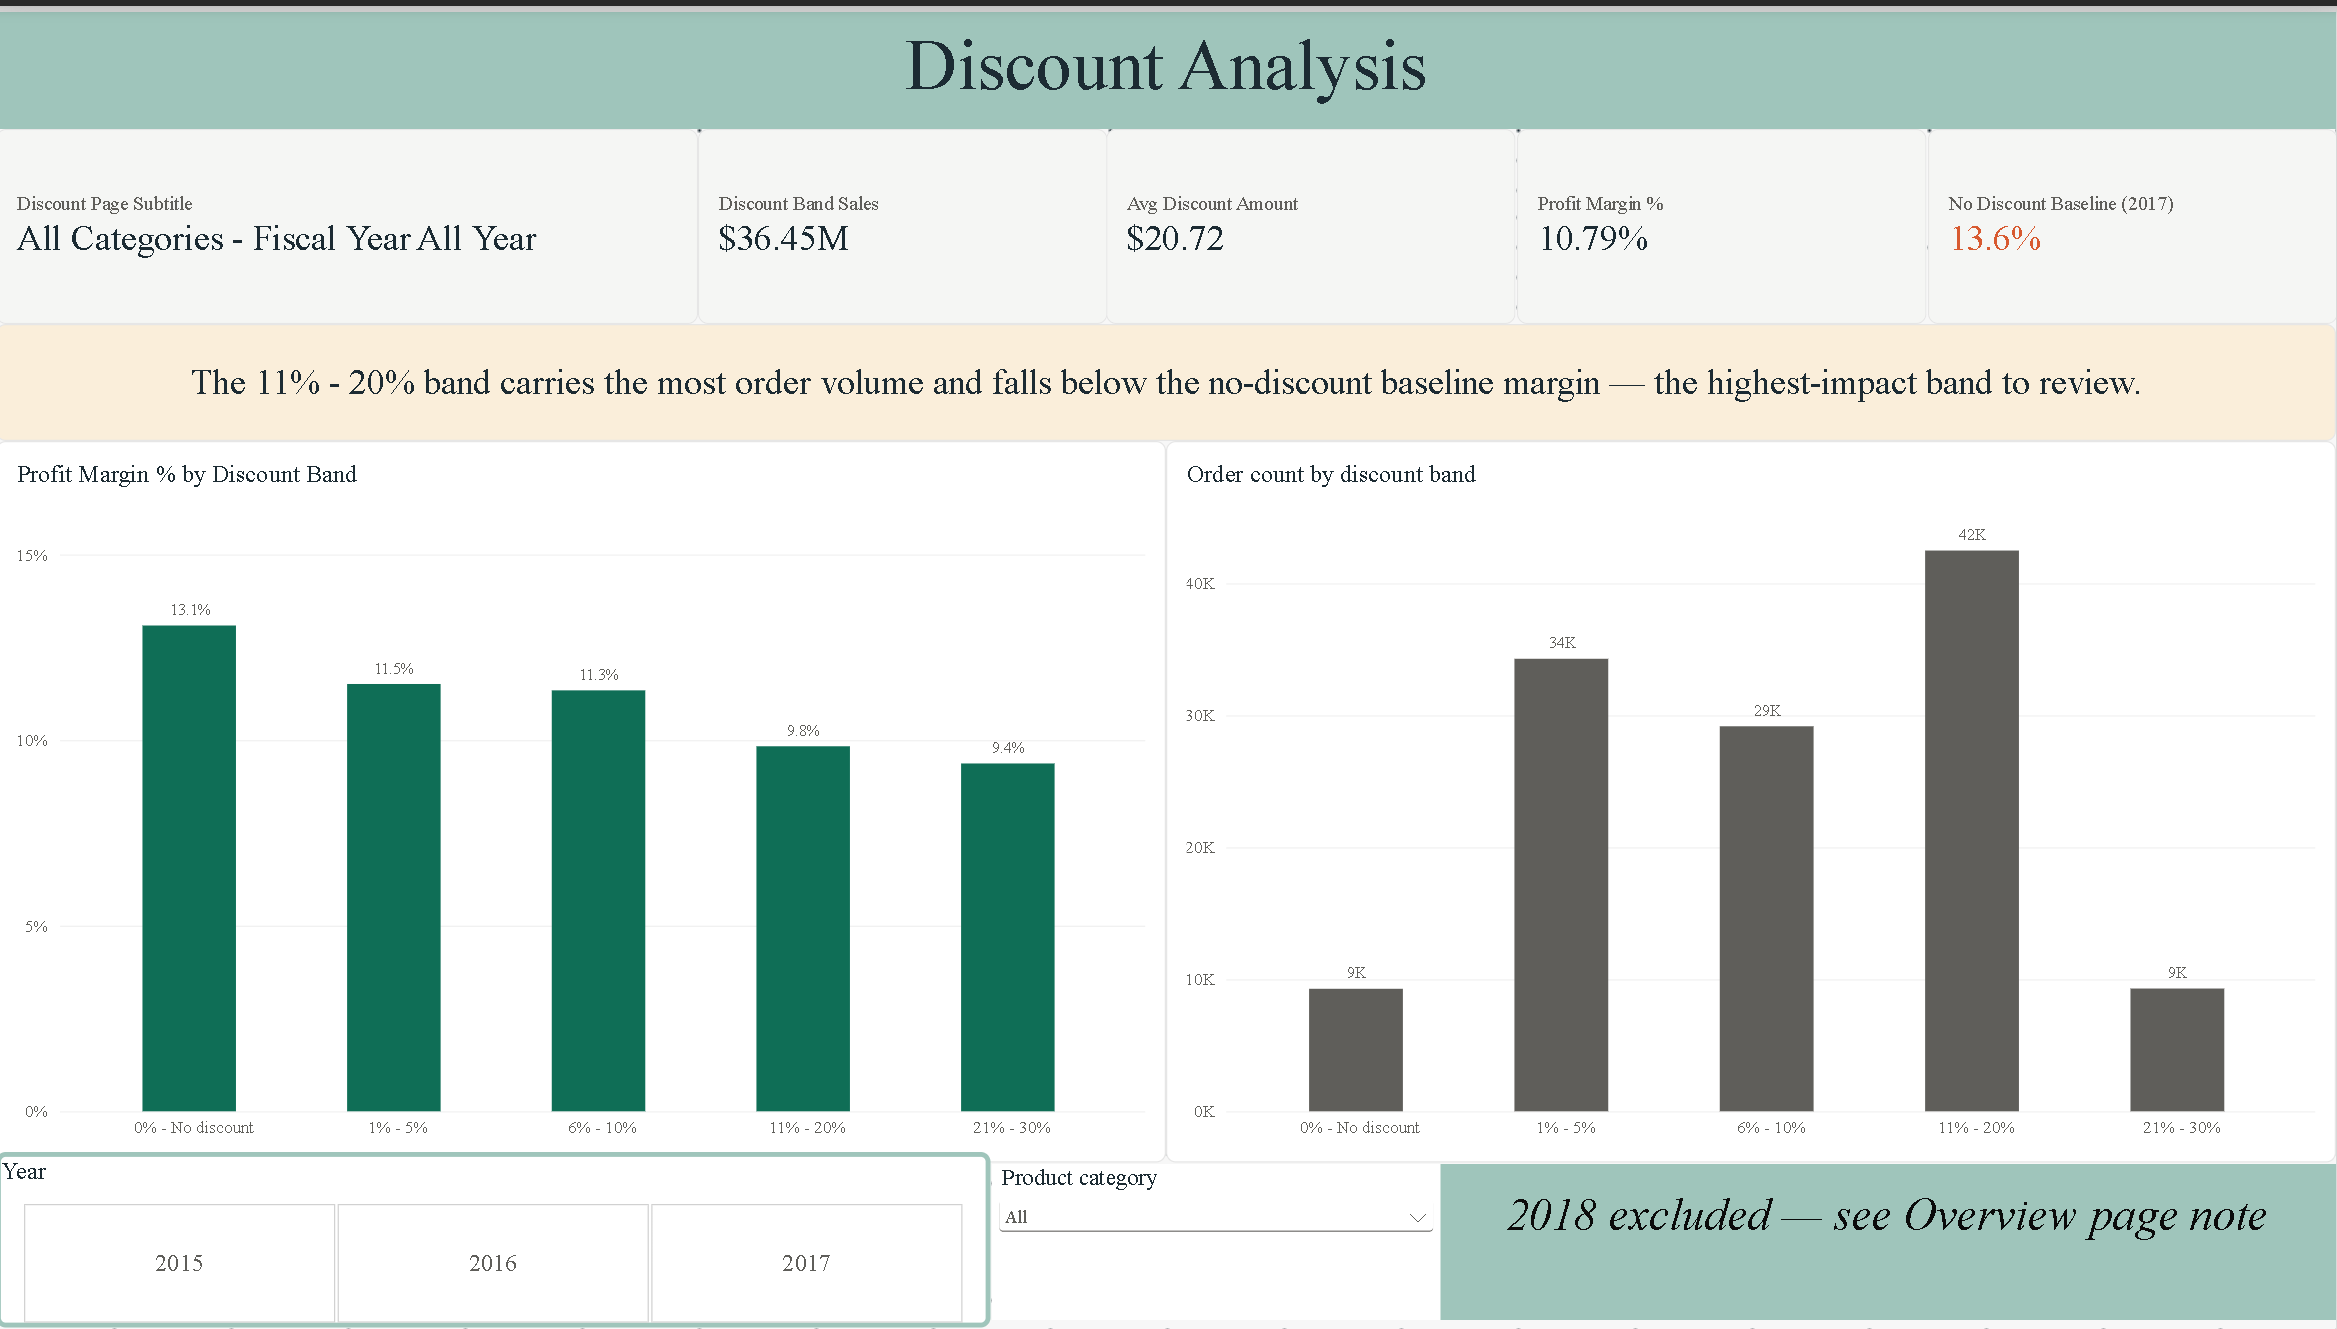

What the dashboard file says about the page in this screenshot:
{"tool":"powerbi","page":{"name":"Discount Analysis","canvas":[1920,1080],"ordinal":1},"visuals":[{"type":"cardVisual","fields":{"Data":["_Measures.Avg Discount Amount"]},"box":[912,96,336,160],"z":0},{"type":"cardVisual","fields":{"Data":["_Measures.Profit Margin %"]},"box":[1248,96,336,160],"z":1000},{"type":"cardVisual","fields":{"Data":["_Measures.No Discount Baseline %"]},"box":[1584,96,336,160],"z":2000},{"type":"clusteredColumnChart","title":"Profit Margin % by Discount Band","fields":{"Category":["reports vw_discount_impact.discount_band"],"Y":["_Measures.Discount Band Margin %"]},"box":[0,352,960,592],"z":3000},{"type":"cardVisual","fields":{"Data":["_Measures.Discount Page Subtitle"]},"box":[0,96,576,160],"z":4000},{"type":"textbox","box":[0,0,1920,96],"z":5000},{"type":"slicer","title":"Year","fields":{"Values":["gold dim_date.year"]},"box":[0,936,816,144],"z":6000},{"type":"textbox","box":[1184,944,736,128],"z":7000},{"type":"clusteredColumnChart","title":"Order count by discount band","fields":{"Category":["reports vw_discount_impact.discount_band"],"Y":["_Measures.Discount Band Order Count"]},"box":[960,352,960,592],"z":8000},{"type":"card","fields":{"Values":["_Measures.Discount Volume Alert"]},"box":[0,256,1920,96],"z":9000},{"type":"cardVisual","fields":{"Data":["_Measures.Discount Band Sales"]},"box":[576,96,336,160],"z":10000},{"type":"slicer","fields":{"Values":["gold dim_product.category_name"]},"box":[816,944,368,128],"z":10001}]}

Visuals, with their boxes in screenshot pixels (x1, y1, x2, y2), scaled from the page's 1920x1080 canvas onto the 2337x1329 screenshot:
cardVisual - _Measures.Avg Discount Amount: BBox(1110, 118, 1519, 315)
cardVisual - _Measures.Profit Margin %: BBox(1519, 118, 1928, 315)
cardVisual - _Measures.No Discount Baseline %: BBox(1928, 118, 2336, 315)
"Profit Margin % by Discount Band" clusteredColumnChart: BBox(0, 433, 1168, 1162)
cardVisual - _Measures.Discount Page Subtitle: BBox(0, 118, 701, 315)
textbox: BBox(0, 0, 2336, 118)
"Year" slicer: BBox(0, 1152, 993, 1328)
textbox: BBox(1441, 1162, 2336, 1319)
"Order count by discount band" clusteredColumnChart: BBox(1168, 433, 2336, 1162)
card - _Measures.Discount Volume Alert: BBox(0, 315, 2336, 433)
cardVisual - _Measures.Discount Band Sales: BBox(701, 118, 1110, 315)
slicer - gold dim_product.category_name: BBox(993, 1162, 1441, 1319)
